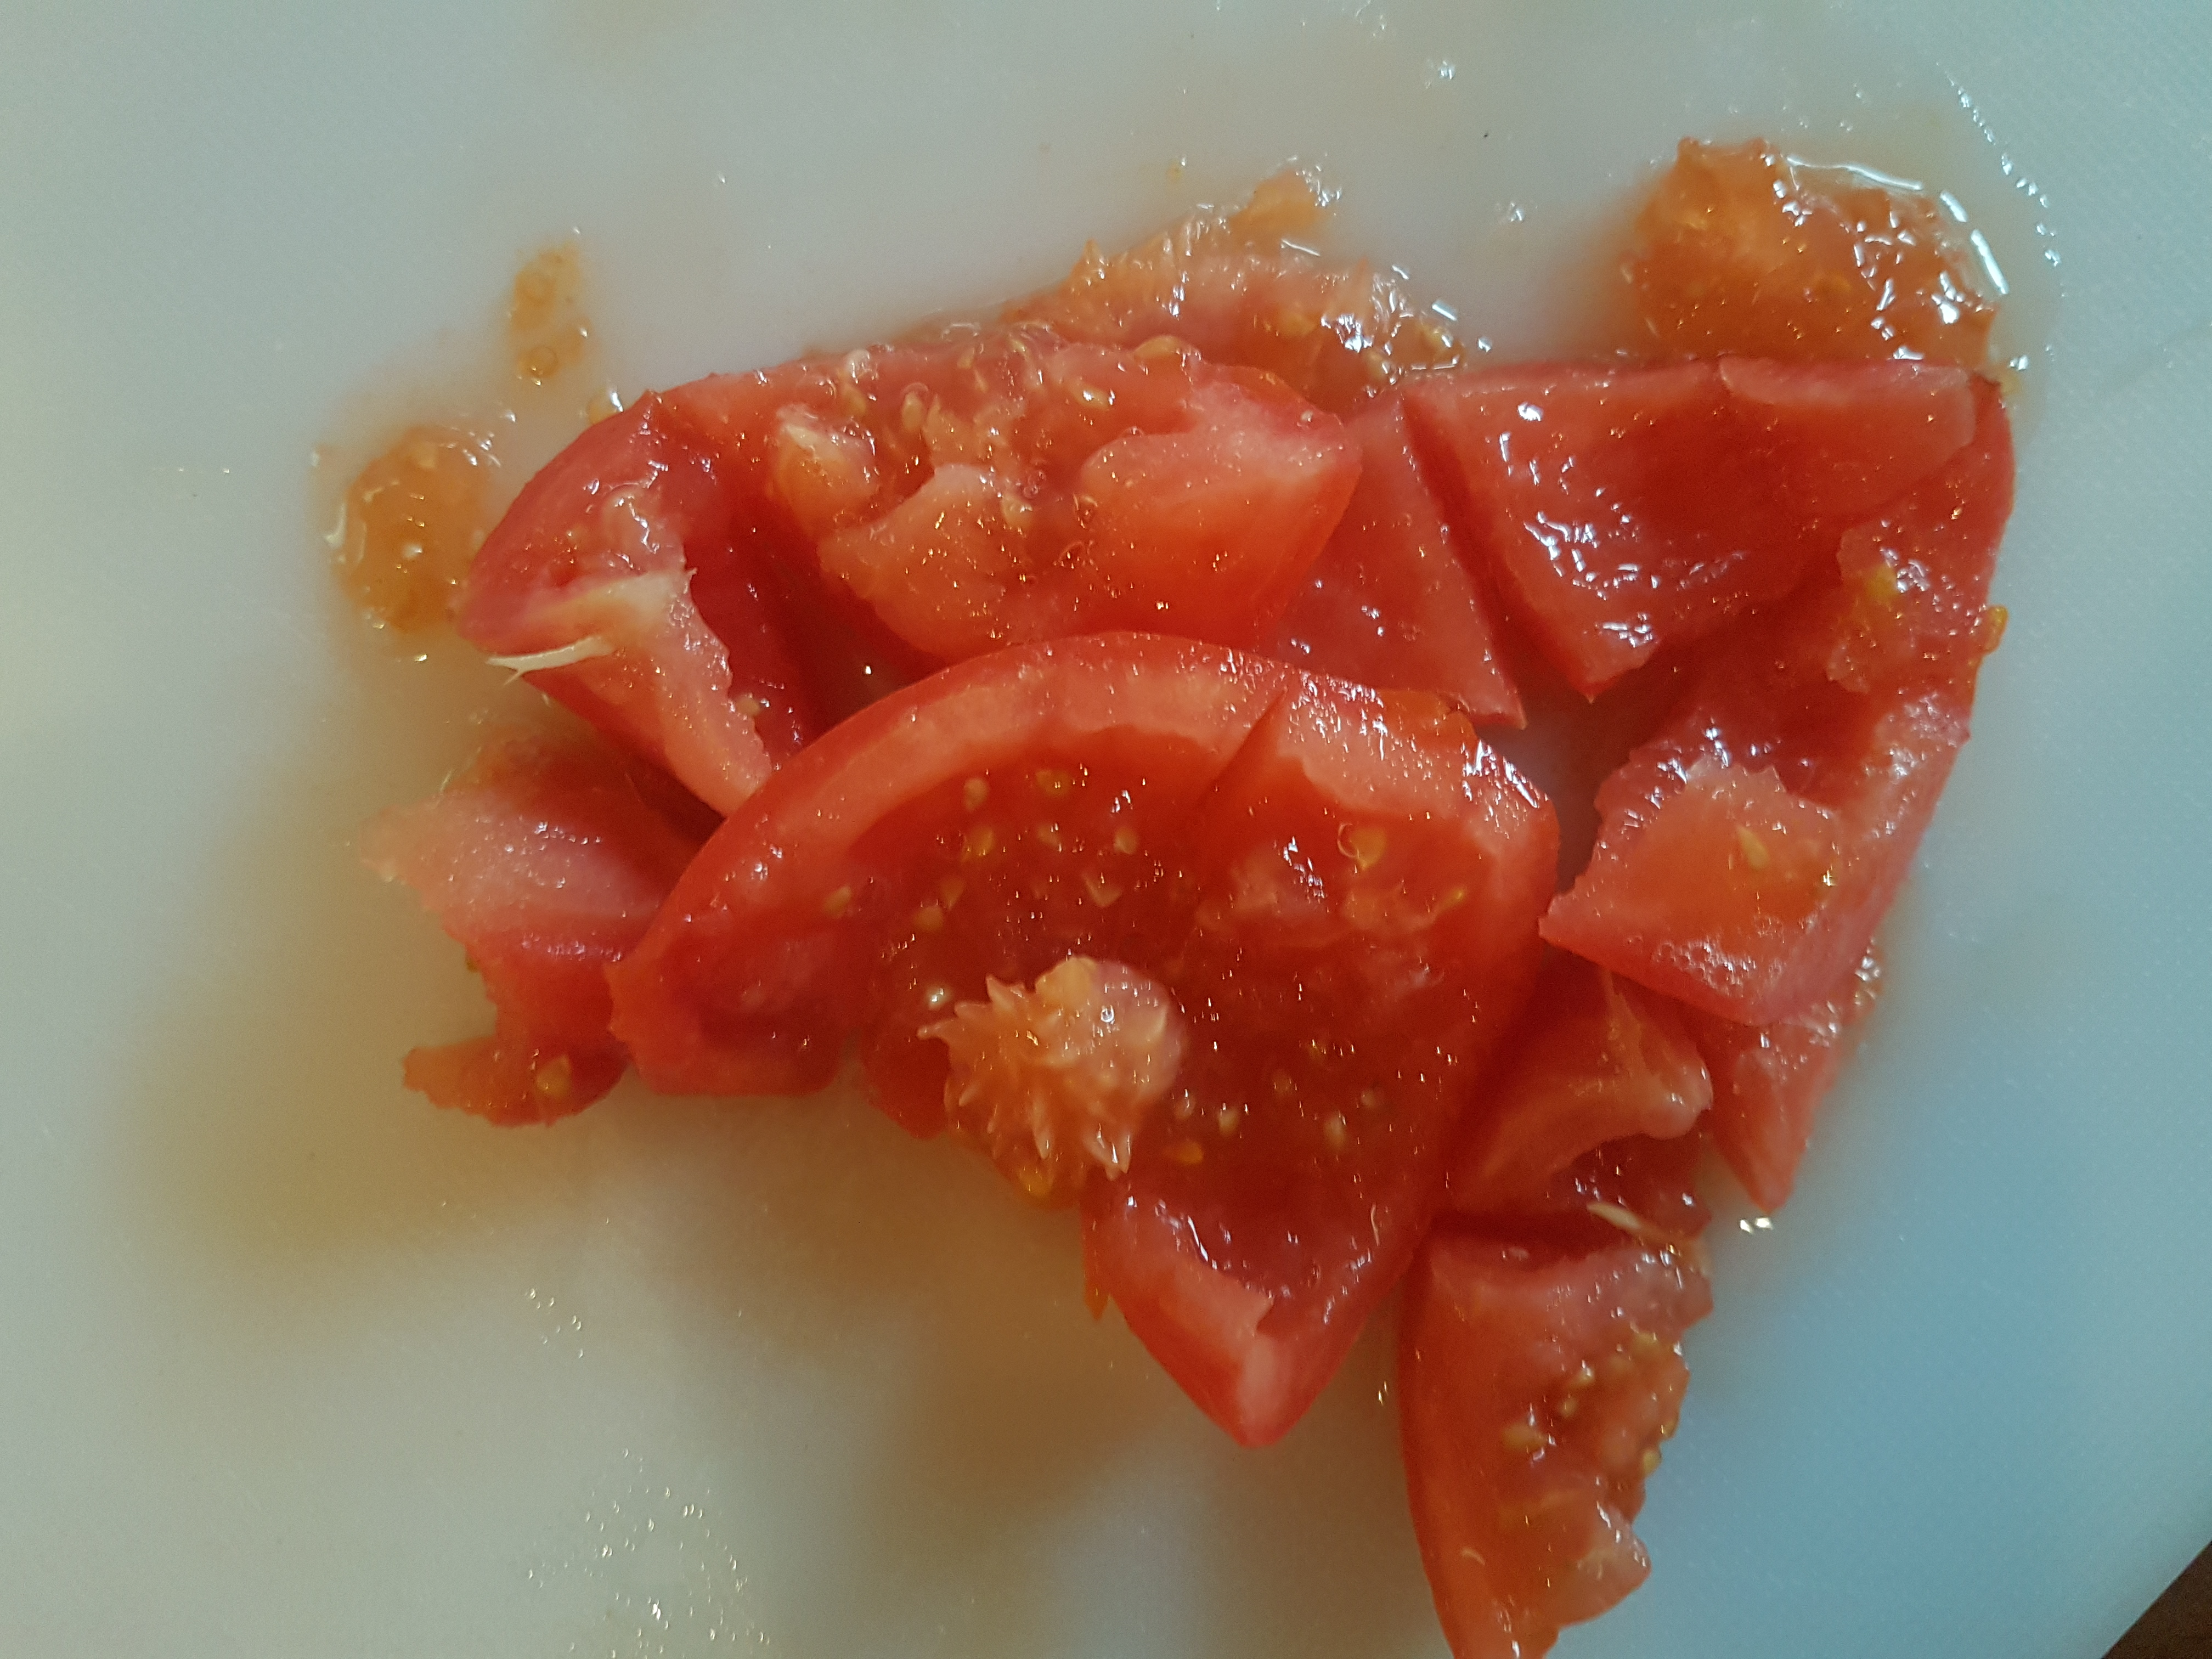Tomato: (209, 143, 2048, 1659)
